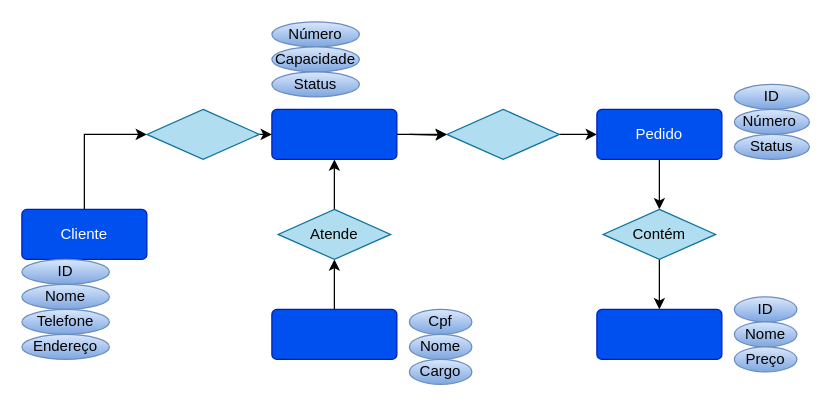
Some shapes in this 831 by 406 pixel diagram are drawn without their labels. The box of each missing label's shape, as (x1, y1, x2, y2) in pixels:
Funcionário: (271, 308, 397, 359)
Mesa: (271, 108, 397, 159)
Produto: (596, 308, 722, 359)
Realiza: (446, 108, 559, 159)
Reserva: (146, 108, 259, 159)
